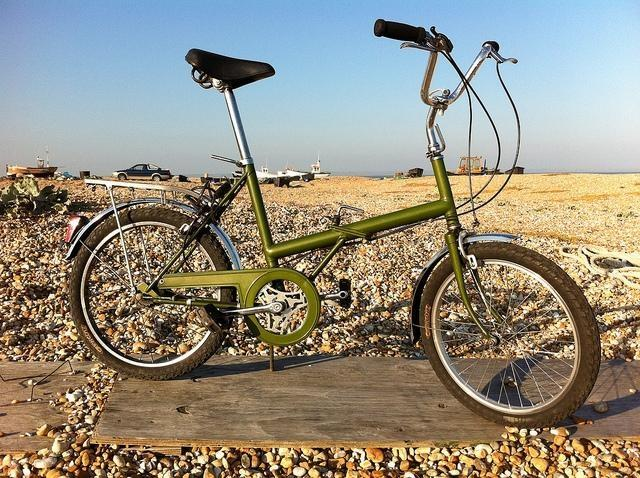bicycle: (61, 19, 602, 430)
car: (111, 163, 172, 183)
